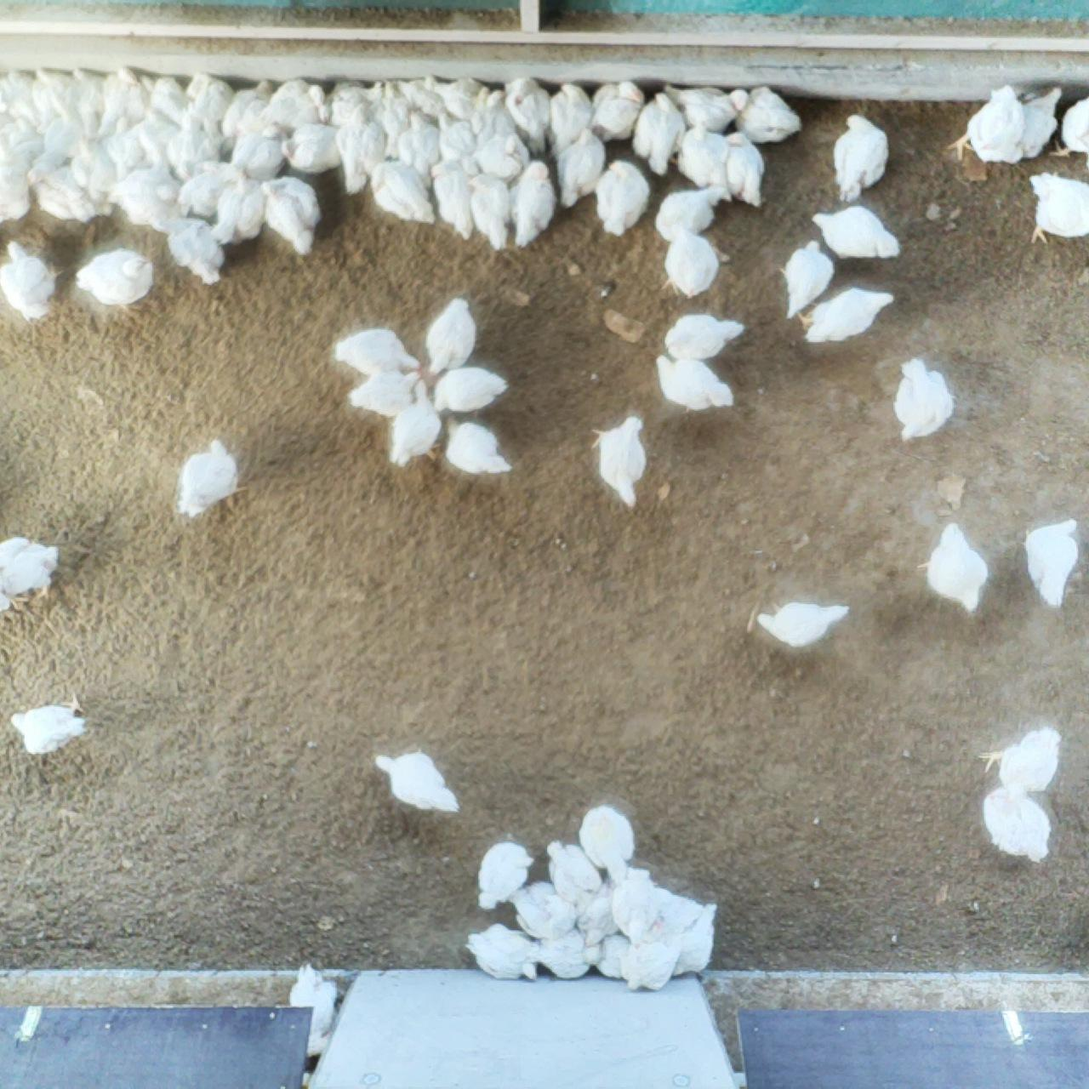chicken: (916, 520, 989, 613), (949, 83, 1027, 165), (278, 961, 341, 1060), (150, 203, 226, 285), (172, 438, 248, 519), (372, 748, 464, 814), (587, 414, 650, 510), (793, 288, 896, 345), (982, 784, 1054, 864), (1018, 516, 1080, 608), (831, 110, 891, 203), (979, 726, 1062, 793), (893, 356, 956, 442), (362, 155, 438, 226), (810, 204, 903, 262), (0, 527, 61, 615), (332, 101, 389, 195), (752, 596, 850, 650), (108, 164, 193, 226), (465, 920, 545, 985), (328, 324, 422, 379), (660, 221, 723, 303), (386, 378, 444, 467), (633, 90, 691, 178), (423, 293, 479, 382), (657, 352, 736, 415), (258, 74, 337, 137), (257, 175, 320, 254), (10, 691, 87, 754), (0, 237, 57, 322), (578, 803, 637, 885), (72, 245, 154, 304), (1001, 84, 1063, 162), (1026, 170, 1089, 246), (27, 111, 91, 185), (544, 836, 604, 914), (672, 115, 735, 189), (177, 157, 253, 218), (223, 75, 287, 147), (499, 75, 553, 160), (510, 879, 584, 941), (507, 158, 557, 248), (666, 81, 749, 135), (440, 414, 512, 476), (393, 110, 448, 191), (653, 183, 735, 237), (554, 127, 608, 209), (780, 238, 835, 318), (126, 107, 187, 179), (634, 884, 703, 947), (595, 159, 650, 238), (475, 841, 536, 912), (427, 364, 510, 416), (666, 904, 721, 980), (733, 84, 802, 144), (430, 159, 481, 238), (347, 368, 427, 418), (661, 313, 744, 361), (618, 928, 680, 992), (573, 876, 626, 950), (531, 924, 601, 980), (584, 82, 647, 144), (547, 80, 597, 158), (465, 173, 516, 249), (64, 67, 121, 135), (169, 113, 224, 183), (230, 121, 291, 184), (611, 867, 660, 945), (280, 123, 351, 175), (184, 71, 242, 133), (432, 111, 486, 176), (370, 81, 414, 159), (94, 116, 145, 182), (68, 132, 122, 194), (394, 77, 453, 133), (722, 131, 766, 206), (585, 932, 648, 984), (318, 82, 385, 130), (52, 170, 119, 218), (426, 74, 490, 124), (468, 88, 519, 150), (100, 66, 149, 128), (1051, 91, 1089, 170), (472, 134, 532, 183), (28, 67, 80, 121), (146, 75, 195, 129), (0, 68, 47, 124), (0, 115, 50, 161), (29, 177, 82, 219), (0, 153, 32, 221)
